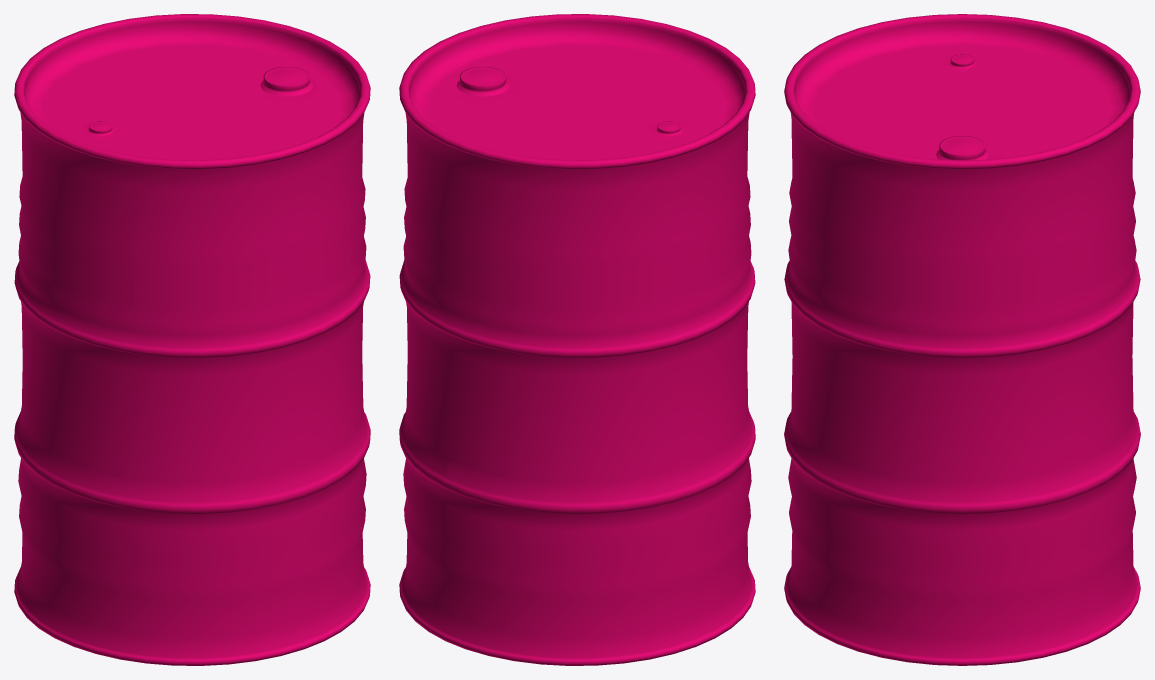
The model's file is Oil_Tank_01_Lod0.fbx.
3 renders of one model, left to right at view 1: azimuth 30°, elevation 25°; view 2: azimuth 150°, elevation 25°; view 3: azimuth 270°, elevation 25°, orthographic.
Parts seen in each view (by area): view 1: Oil_Tank_01_Lod0; view 2: Oil_Tank_01_Lod0; view 3: Oil_Tank_01_Lod0.
Part boxes in pixels (x1=…): Oil_Tank_01_Lod0: x1=14, y1=14, x2=370, y2=665; Oil_Tank_01_Lod0: x1=399, y1=14, x2=755, y2=665; Oil_Tank_01_Lod0: x1=784, y1=14, x2=1140, y2=665.
Bounding box in the file's own units: 62.98 × 98.14 × 62.98.
